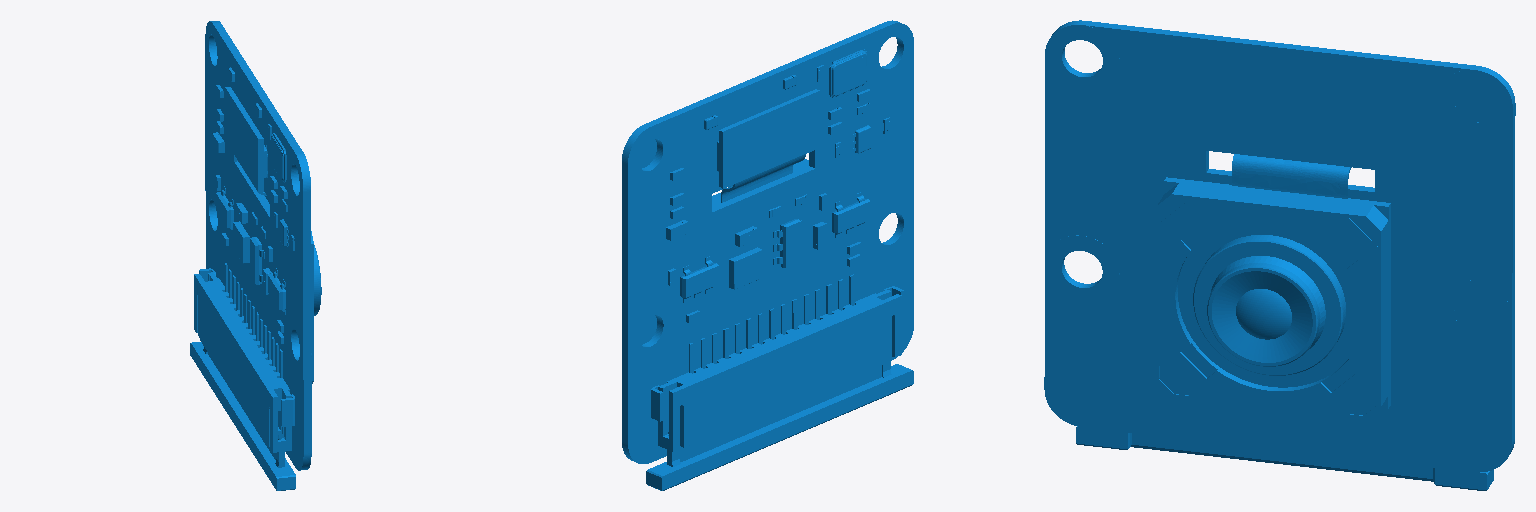
The robot description file, URDF, robot "ur5_4dof":
<?xml version="1.0" ?>
<!-- =================================================================================== -->
<!-- |    This document was autogenerated by xacro from src/ur5_4dof/urdf/ur5_4dof.urdf.xacro | -->
<!-- |    EDITING THIS FILE BY HAND IS NOT RECOMMENDED                                 | -->
<!-- =================================================================================== -->
<robot name="ur5_4dof">
  <!-- === 1) UR5 4-DOF === -->
  <!-- Base -->
  <link name="base_link">
    <!-- Minimal Inertial block -->
    <inertial>
      <mass value="5.0"/>
      <origin rpy="0 0 0" xyz="0 0 0"/>
      <inertia ixx="0.1" ixy="0.0" ixz="0.0" iyy="0.1" iyz="0.0" izz="0.1"/>
    </inertial>
    <!-- Simple Collision block (same mesh as visual) -->
    <collision>
      <origin rpy="0 0 2.35619449" xyz="0 0 0.003"/>
      <geometry>
        <mesh filename="package://ur_description/meshes/ur5/visual/base.dae"/>
      </geometry>
    </collision>
    <visual>
      <geometry>
        <mesh filename="package://ur_description/meshes/ur5/visual/base.dae"/>
      </geometry>
      <!-- 3·π/4 = 2.35619449 rad -->
      <origin rpy="0 0 2.35619449" xyz="0 0 0.003"/>
    </visual>
  </link>
  <!-- Joint 1 -->
  <joint name="shoulder_pan_joint" type="revolute">
    <parent link="base_link"/>
    <child link="shoulder_link"/>
    <origin rpy="0 0 0" xyz="0 0 0.089159"/>
    <axis xyz="0 0 1"/>
    <limit effort="150" lower="-6.28318531" upper="6.28318531" velocity="3.14159265"/>
  </joint>
  <link name="shoulder_link">
    <inertial>
      <mass value="4.0"/>
      <origin rpy="0 0 0" xyz="0 0 0"/>
      <inertia ixx="0.08" ixy="0.0" ixz="0.0" iyy="0.08" iyz="0.0" izz="0.08"/>
    </inertial>
    <collision>
      <origin rpy="0 0 0" xyz="0 0 0"/>
      <geometry>
        <mesh filename="package://ur_description/meshes/ur5/visual/shoulder.dae"/>
      </geometry>
    </collision>
    <visual>
      <geometry>
        <mesh filename="package://ur_description/meshes/ur5/visual/shoulder.dae"/>
      </geometry>
    </visual>
  </link>
  <!-- Joint 2 -->
  <joint name="shoulder_lift_joint" type="revolute">
    <parent link="shoulder_link"/>
    <child link="upper_arm_link"/>
    <!-- π/2 = 1.57079633 rad -->
    <origin rpy="0 1.57079633 0" xyz="0 0.13585 0"/>
    <axis xyz="0 1 0"/>
    <limit effort="150" lower="-6.28318531" upper="6.28318531" velocity="3.14159265"/>
  </joint>
  <link name="upper_arm_link">
    <inertial>
      <mass value="3.0"/>
      <origin rpy="0 0 0" xyz="0 0 0"/>
      <inertia ixx="0.06" ixy="0.0" ixz="0.0" iyy="0.06" iyz="0.0" izz="0.06"/>
    </inertial>
    <collision>
      <origin rpy="0 0 0" xyz="0 0 0"/>
      <geometry>
        <mesh filename="package://ur_description/meshes/ur5/visual/upperarm.dae"/>
      </geometry>
    </collision>
    <visual>
      <geometry>
        <mesh filename="package://ur_description/meshes/ur5/visual/upperarm.dae"/>
      </geometry>
    </visual>
  </link>
  <!-- Joint 3 -->
  <joint name="elbow_joint" type="revolute">
    <parent link="upper_arm_link"/>
    <child link="forearm_link"/>
    <origin rpy="0 0 0" xyz="0 -0.1197 0.425"/>
    <axis xyz="0 1 0"/>
    <limit effort="150" lower="-6.28318531" upper="6.28318531" velocity="3.14159265"/>
  </joint>
  <link name="forearm_link">
    <inertial>
      <mass value="2.5"/>
      <origin rpy="0 0 0" xyz="0 0 0"/>
      <inertia ixx="0.05" ixy="0.0" ixz="0.0" iyy="0.05" iyz="0.0" izz="0.05"/>
    </inertial>
    <collision>
      <origin rpy="0 0 0" xyz="0 0 0"/>
      <geometry>
        <mesh filename="package://ur_description/meshes/ur5/visual/forearm.dae"/>
      </geometry>
    </collision>
    <visual>
      <geometry>
        <mesh filename="package://ur_description/meshes/ur5/visual/forearm.dae"/>
      </geometry>
    </visual>
  </link>
  <!-- Joint 4 (combined wrist) -->
  <joint name="wrist_joint" type="revolute">
    <parent link="forearm_link"/>
    <child link="wrist_link"/>
    <origin rpy="0 0 0" xyz="0 0 0.39225"/>
    <axis xyz="0 1 0"/>
    <limit effort="28" lower="-3.14159265" upper="0.78539816" velocity="3.14159265"/>
  </joint>
  <link name="wrist_link">
    <inertial>
      <mass value="2.0"/>
      <origin rpy="0 0 0" xyz="0 0 0"/>
      <inertia ixx="0.04" ixy="0.0" ixz="0.0" iyy="0.04" iyz="0.0" izz="0.04"/>
    </inertial>
    <collision>
      <origin rpy="0 0 0" xyz="0 0 0"/>
      <geometry>
        <mesh filename="package://ur_description/meshes/ur5/visual/wrist1.dae"/>
      </geometry>
    </collision>
    <visual>
      <geometry>
        <mesh filename="package://ur_description/meshes/ur5/visual/wrist1.dae"/>
      </geometry>
      <origin rpy="0 0 0" xyz="0 0 0"/>
    </visual>
  </link>
  <!-- Fixed end-effector mount on the UR5 wrist -->
  <joint name="ee_fixed_joint" type="fixed">
    <parent link="wrist_link"/>
    <child link="ee_link"/>
    <origin rpy="0 0 0" xyz="0 0 0.17695"/>
  </joint>
  <link name="ee_link">
    <inertial>
      <mass value="1.5"/>
      <origin rpy="0 0 0" xyz="0 0 0"/>
      <inertia ixx="0.03" ixy="0.0" ixz="0.0" iyy="0.03" iyz="0.0" izz="0.03"/>
    </inertial>
    <collision>
      <origin rpy="0 0 0" xyz="0 0 0"/>
      <!-- no mesh since ee_link has no visual itself -->
      <geometry>
        <box size="0.05 0.05 0.05"/>
      </geometry>
    </collision>
  </link>
  <!-- mounting gripper directly to ee_link -->
  <joint name="gripper_mount_joint" type="fixed">
    <parent link="ee_link"/>
    <child link="grip_mount_link"/>
    <origin rpy="0 0 0" xyz="0 0.0943 -0.134"/>
  </joint>
  <link name="grip_mount_link">
    <inertial>
      <mass value="1.0"/>
      <origin rpy="0 0 0" xyz="0 0 0"/>
      <inertia ixx="0.02" ixy="0.0" ixz="0.0" iyy="0.02" iyz="0.0" izz="0.02"/>
    </inertial>
    <collision>
      <origin rpy="0 0 0" xyz="0 0 0"/>
      <geometry>
        <box size="0.03 0.02 0.02"/>
      </geometry>
    </collision>
  </link>
  <!-- === 1) Gripper Camera === -->
  <link name="gripper_camera_link">
    <inertial>
      <mass value="0.5"/>
      <origin rpy="0 0 0" xyz="0 0 0"/>
      <inertia ixx="0.005" ixy="0.0" ixz="0.0" iyy="0.005" iyz="0.0" izz="0.005"/>
    </inertial>
    <collision>
      <origin rpy="0 0 0" xyz="0 0 0"/>
      <geometry>
        <mesh filename="package://ur5_4dof/meshes/camera.dae" scale="0.0025 0.0024 0.0012"/>
      </geometry>
    </collision>
    <visual>
      <geometry>
        <mesh filename="package://ur5_4dof/meshes/camera.dae" scale="0.0025 0.0024 0.0012"/>
      </geometry>
      <material name="CameraBody">
        <color rgba="0.1 0.6 0.9 1.0"/>
      </material>
    </visual>
  </link>
  <joint name="gripper_camera_joint" type="fixed">
    <parent link="grip_mount_link"/>
    <child link="gripper_camera_link"/>
    <!--
      We shift:
        +X (forward)  0.00 m
        +Y (left)     0.04 m
        +Z (up)       0.05 m
      And tilt by –10° around its local Y axis
    -->
    <origin rpy="0.0 -0.26179 1.5693" xyz="0.0317 0.0205 0.111"/>
  </joint>
  <gazebo reference="gripper_camera_link">
    <sensor name="gazebo_camera" type="camera">
      <always_on>1</always_on>
      <update_rate>30.0</update_rate>
      <camera>
        <horizontal_fov>1.047</horizontal_fov>
        <image>
          <width>640</width>
          <height>480</height>
          <format>R8G8B8</format>
        </image>
        <clip>
          <near>0.1</near>
          <far>100.0</far>
        </clip>
      </camera>
      <plugin filename="libgazebo_ros_camera.so" name="gazebo_ros_camera">
        <ros>
          <namespace>/camera</namespace>
          <remapping>
            <remap from="/image_raw" to="/camera/image_raw"/>
          </remapping>
        </ros>
        <cameraName>gazebo_camera</cameraName>
        <imageTopicName>image_raw</imageTopicName>
        <cameraInfoTopicName>camera_info</cameraInfoTopicName>
        <frameName>gripper_camera_link</frameName>
      </plugin>
    </sensor>
  </gazebo>
  <ros2_control name="gripper" type="system">
    <hardware>
      <plugin>mock_components/GenericSystem</plugin>
    </hardware>
    <!-- The right finger joint uses the mimic feature -->
    <joint name="robotiq_hande_left_finger_joint">
      <command_interface name="position">
        <param name="min">0</param>
        <param name="max">0.025</param>
      </command_interface>
      <state_interface name="position">
        <param name="initial_value">0.025</param>
      </state_interface>
      <state_interface name="velocity">
        <param name="initial_value">0</param>
      </state_interface>
    </joint>
  </ros2_control>
  <joint name="robotiq_hande_coupler_joint" type="fixed">
    <origin rpy="0 0 0" xyz="0 0 0"/>
    <parent link="grip_mount_link"/>
    <child link="robotiq_hande_coupler"/>
  </joint>
  <link name="robotiq_hande_coupler">
    <visual>
      <geometry>
        <mesh filename="package://robotiq_hande_description/meshes/io_coupler.dae"/>
      </geometry>
    </visual>
    <collision>
      <origin rpy="0 0 0" xyz="0 0 0.005449999999999999"/>
      <geometry>
        <cylinder length="0.0169" radius="0.0385"/>
      </geometry>
    </collision>
    <inertial>
      <mass value="0.119"/>
      <origin rpy="0 0 0" xyz="0 0 0.005449999999999999"/>
      <inertia ixx="4.4668218799372e-05" ixy="0.0" ixz="0.0" iyy="4.4668218799372e-05" iyz="0.0" izz="8.367187499999999e-05"/>
    </inertial>
  </link>
  <!-- Hand body -->
  <joint name="robotiq_hande_base_joint" type="fixed">
    <origin rpy="0 0 0" xyz="0 0 0.011"/>
    <parent link="robotiq_hande_coupler"/>
    <child link="robotiq_hande_link"/>
  </joint>
  <link name="robotiq_hande_link">
    <visual>
      <geometry>
        <mesh filename="package://robotiq_hande_description/meshes/hande.dae"/>
      </geometry>
    </visual>
    <collision>
      <origin rpy="0 0 0" xyz="0 0 0.053450000000000004"/>
      <geometry>
        <cylinder length="0.10690000000000001" radius="0.0385"/>
      </geometry>
    </collision>
    <inertial>
      <mass value="0.86387"/>
      <origin rpy="0 0 0" xyz="0 0 0.0495"/>
      <inertia ixx="0.0010092697156669523" ixy="0.0" ixz="0.0" iyy="0.0010092697156669523" iyz="0.0" izz="0.00060740859375"/>
    </inertial>
  </link>
  <!-- 1) master “gripper” slider joint -->
  <joint name="gripper" type="prismatic">
    <origin rpy="0 0 0" xyz="0 0 0.099"/>
    <parent link="robotiq_hande_link"/>
    <child link="gripper_finger"/>
    <axis xyz="1 0 0"/>
    <limit effort="130" lower="0.0" upper="0.04" velocity="0.15"/>
  </joint>
  <link name="gripper_finger">
    <visual>
      <geometry>
        <mesh filename="package://robotiq_hande_description/meshes/finger.dae"/>
      </geometry>
    </visual>
    <collision>
      <geometry>
        <mesh filename="package://robotiq_hande_description/meshes/finger_collision.dae"/>
      </geometry>
    </collision>
  </link>
  <!-- 2) mimic joint, with identical limits -->
  <joint name="gripper_mimic" type="prismatic">
    <origin rpy="0 0 0" xyz="0 0 0.099"/>
    <parent link="robotiq_hande_link"/>
    <child link="gripper_finger_mimic"/>
    <axis xyz="-1 0 0"/>
    <limit effort="130" lower="0.0" upper="0.04" velocity="0.15"/>
    <mimic joint="gripper" multiplier="1" offset="0"/>
  </joint>
  <link name="gripper_finger_mimic">
    <visual>
      <origin rpy="0 0 3.141592653589793" xyz="0 0 0"/>
      <geometry>
        <mesh filename="package://robotiq_hande_description/meshes/finger.dae"/>
      </geometry>
    </visual>
    <collision>
      <origin rpy="0 0 3.141592653589793" xyz="0 0 0"/>
      <geometry>
        <mesh filename="package://robotiq_hande_description/meshes/finger_collision.dae"/>
      </geometry>
    </collision>
  </link>
  <!-- final fixed end link -->
  <joint name="robotiq_hande_end_joint" type="fixed">
    <origin rpy="0 0 0" xyz="0 0 0.14550000000000002"/>
    <parent link="robotiq_hande_link"/>
    <child link="robotiq_hande_end"/>
  </joint>
  <link name="robotiq_hande_end"/>
</robot>

--- What the picture shows (computed from the rendered views, not written in the file) ---
The picture shows the robot from 3 angles, left to right: view 1: azimuth 30°, elevation 25°; view 2: azimuth 150°, elevation 25°; view 3: azimuth 270°, elevation 25°; orthographic projection.
Robot: ur5_4dof — 13 links, 12 joints (4 revolute, 2 prismatic, 6 fixed); root link base_link; default pose: all joints at 0.
Links seen in each view (by area): view 1: gripper_camera_link; view 2: gripper_camera_link; view 3: gripper_camera_link.
Boxes of the visible links, left/top/right/bottom form: gripper_camera_link: left=190, top=21, right=321, bottom=490; gripper_camera_link: left=622, top=20, right=913, bottom=490; gripper_camera_link: left=1044, top=20, right=1515, bottom=490.
Size in the robot's own frame: 0.0217 by 0.0608 by 0.0607 metres.
Meshes: 9 distinct files referenced, 1 mesh visuals loaded (1 Collada DAE); not drawn: 9 (reference not matched to a file when rendering).